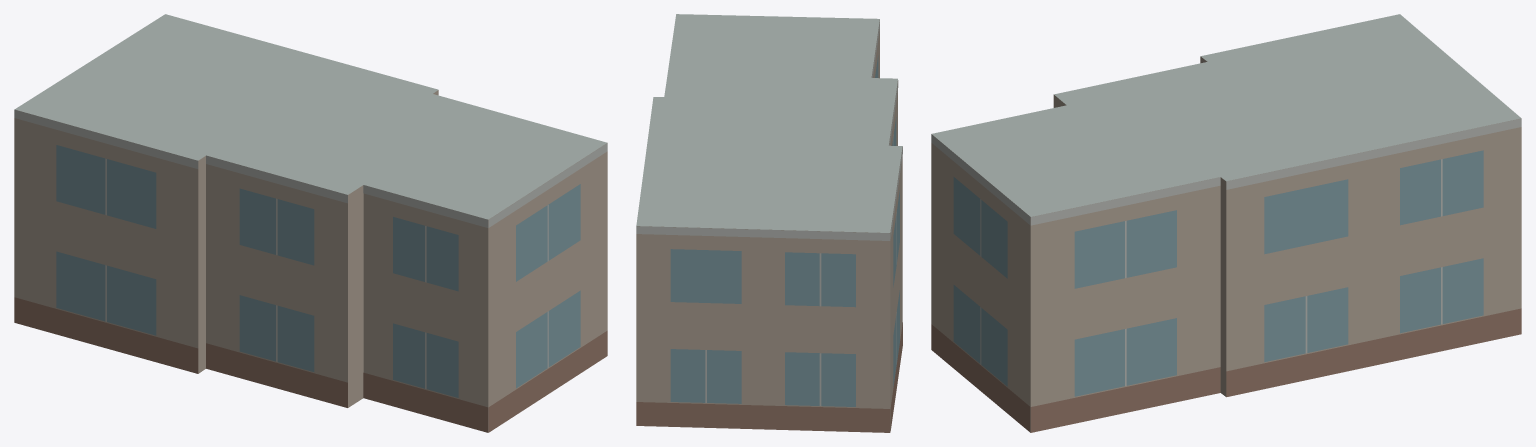
File: survey-upis-32698873.glb
3 views of the same model, side by side, from view 1: azimuth 30°, elevation 25°; view 2: azimuth 150°, elevation 25°; view 3: azimuth 270°, elevation 25° (orthographic). The views are drawn at different scales.
Visible parts, largest first — view 1: survey-upis-32698873.tmp; view 2: survey-upis-32698873.tmp; view 3: survey-upis-32698873.tmp.
Part boxes in pixels (<box>): survey-upis-32698873.tmp: <box>14,14,607,432</box>; survey-upis-32698873.tmp: <box>636,14,902,432</box>; survey-upis-32698873.tmp: <box>931,14,1521,432</box>.
Bounding box in the file's own units: 12.31 × 6.1 × 15.13.
